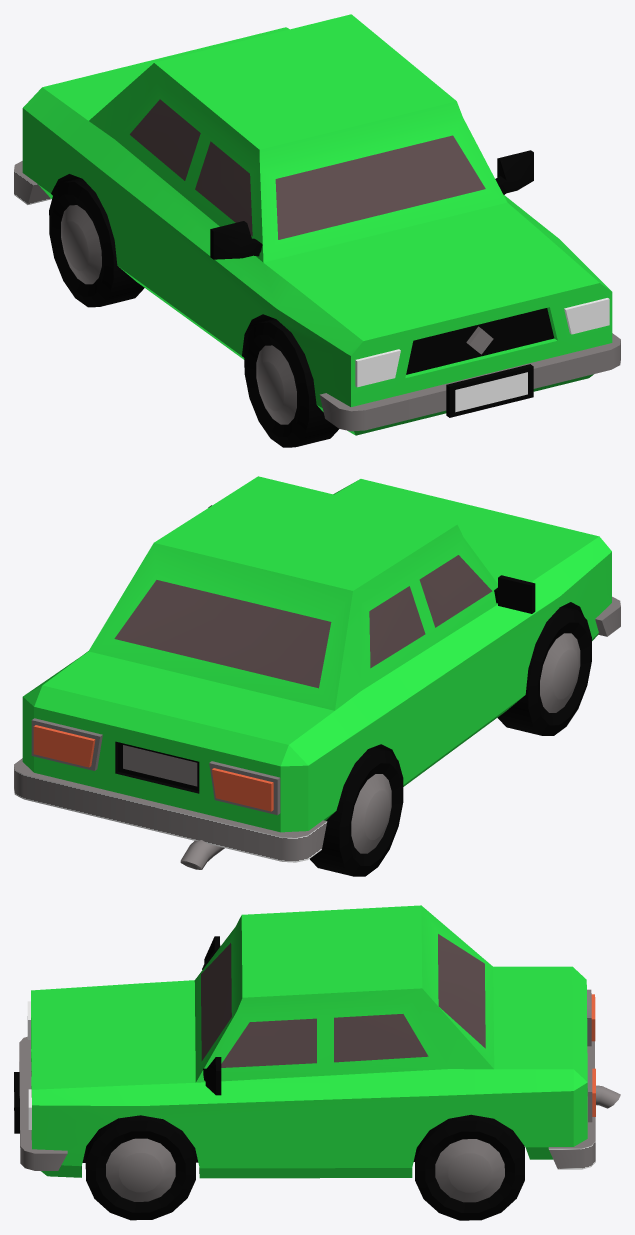
Rendered from CAR 3.fbx.
The picture shows the model from 3 angles, top to bottom: view 1: azimuth 30°, elevation 25°; view 2: azimuth 150°, elevation 25°; view 3: azimuth 270°, elevation 25°; orthographic projection. The views are drawn at different scales.
Parts seen in each view (by area): view 1: body, tyre.001, tyre.037; view 2: body, tyre.037, tyre.001; view 3: body, tyre.036, tyre.035.
Part boxes in pixels (bbox=[...]): body: bbox=[14, 14, 620, 435]; tyre.001: bbox=[244, 318, 338, 447]; tyre.037: bbox=[49, 178, 144, 307]; body: bbox=[14, 476, 620, 869]; tyre.037: bbox=[310, 747, 403, 876]; tyre.001: bbox=[497, 606, 591, 735]; body: bbox=[14, 905, 620, 1178]; tyre.036: bbox=[415, 1114, 524, 1220]; tyre.035: bbox=[85, 1115, 195, 1220].
Size of the model in its own units: 2.27 by 1.68 by 4.31.
